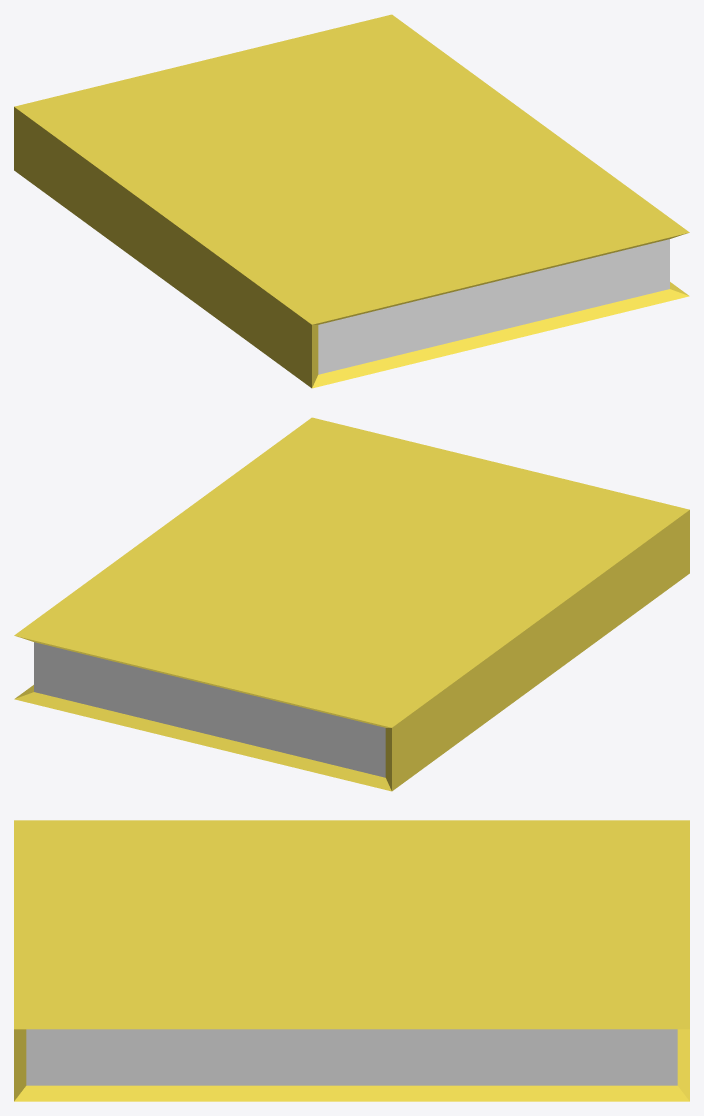
Rendered from office_pack_palette.fbx.
3 renders of one model, top to bottom at view 1: azimuth 30°, elevation 25°; view 2: azimuth 150°, elevation 25°; view 3: azimuth 270°, elevation 25°, orthographic. The views are drawn at different scales.
Visible parts, largest first — view 1: book; view 2: book; view 3: book.
Boxes of the visible parts, left/top/right/bottom form: book: left=14, top=14, right=689, bottom=388; book: left=14, top=417, right=689, bottom=791; book: left=14, top=820, right=689, bottom=1101.
Size of the model in its own units: 0.4688 by 0.0755 by 0.6402.
1 material, 1 textured.
